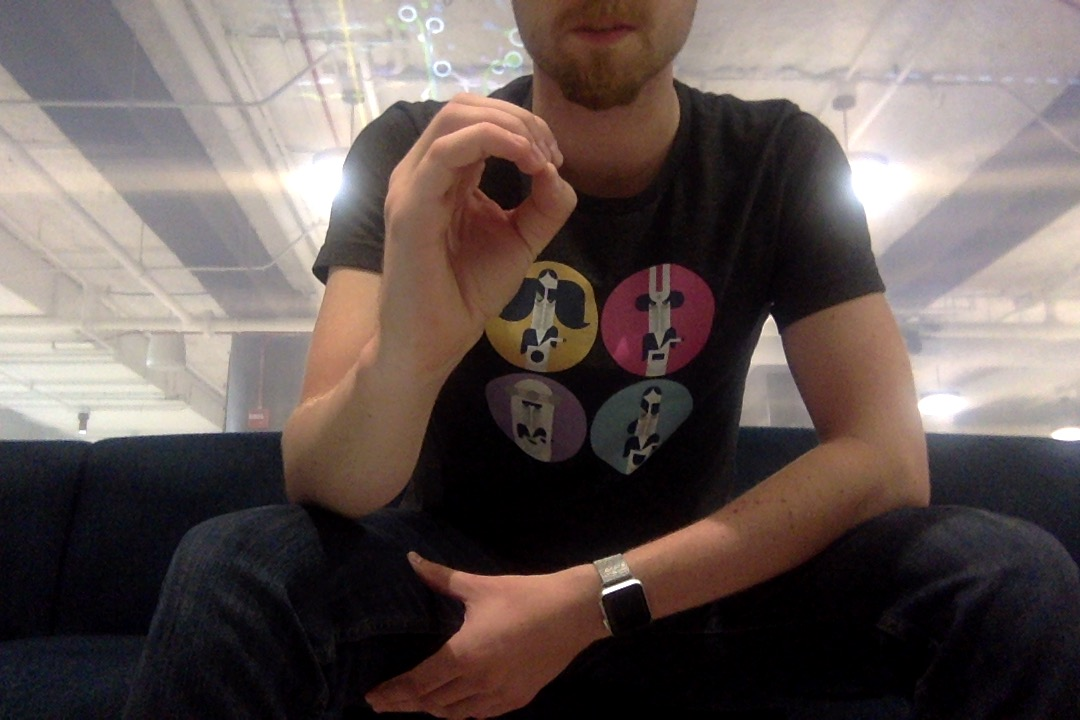o: (377, 89, 581, 314)
